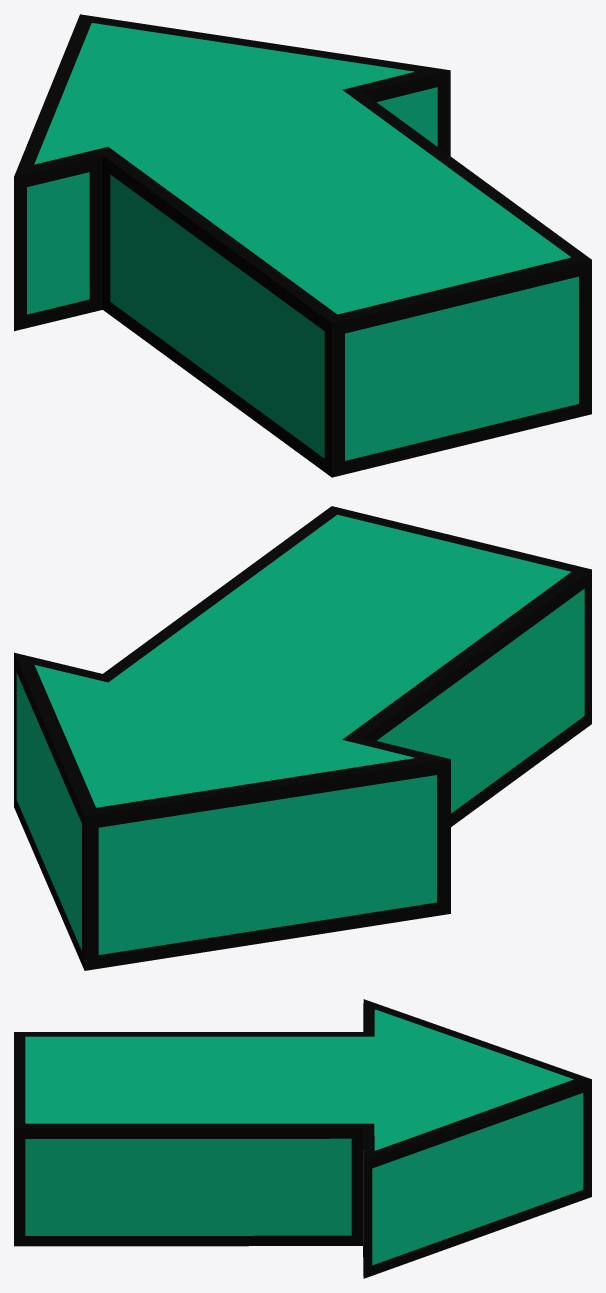
The model's file is directional-arrow.fbx.
3 views of the same model, one above another, from view 1: azimuth 30°, elevation 25°; view 2: azimuth 150°, elevation 25°; view 3: azimuth 270°, elevation 25° (orthographic). The views are drawn at different scales.
Visible parts, largest first — view 1: Arrow; view 2: Arrow; view 3: Arrow.
Boxes of the visible parts, bbox=[...] form: Arrow: bbox=[14, 14, 591, 477]; Arrow: bbox=[14, 506, 591, 970]; Arrow: bbox=[14, 999, 591, 1278].
Size of the model in its own units: 128 by 43.38 by 193.
